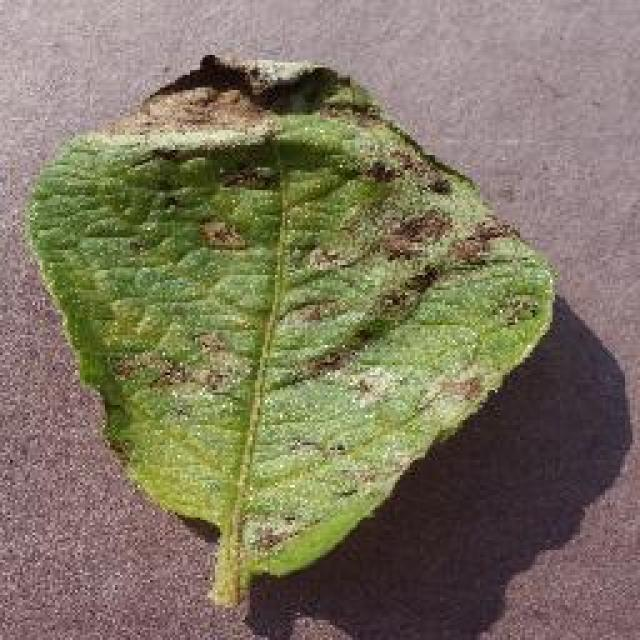Potato___Late_blight: (2, 35, 562, 630)
